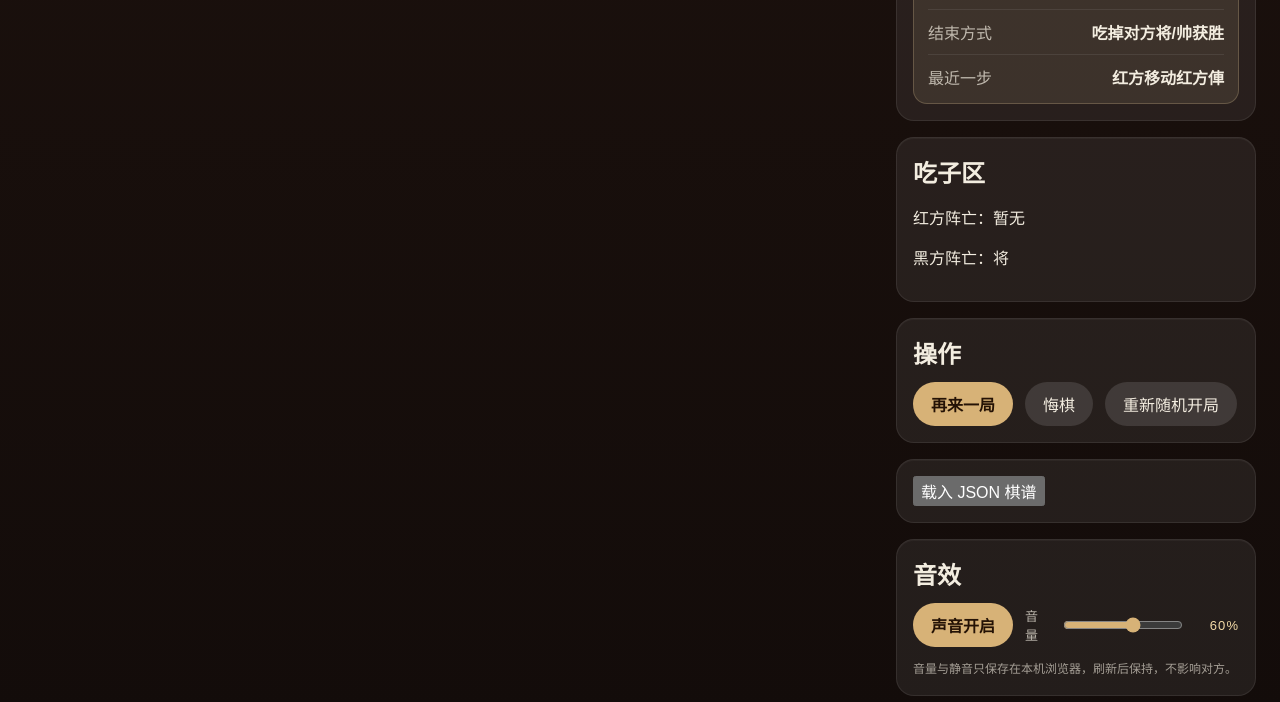
Test: app flow › returns to an in-progress view when undoing from a finished game
(page scrolled)
Expected: the button "再来一局" is shown, [913,382,1013,426]
Click the button "悔棋" at (1059, 404), box [1025,382,1093,426]
(page scrolled)
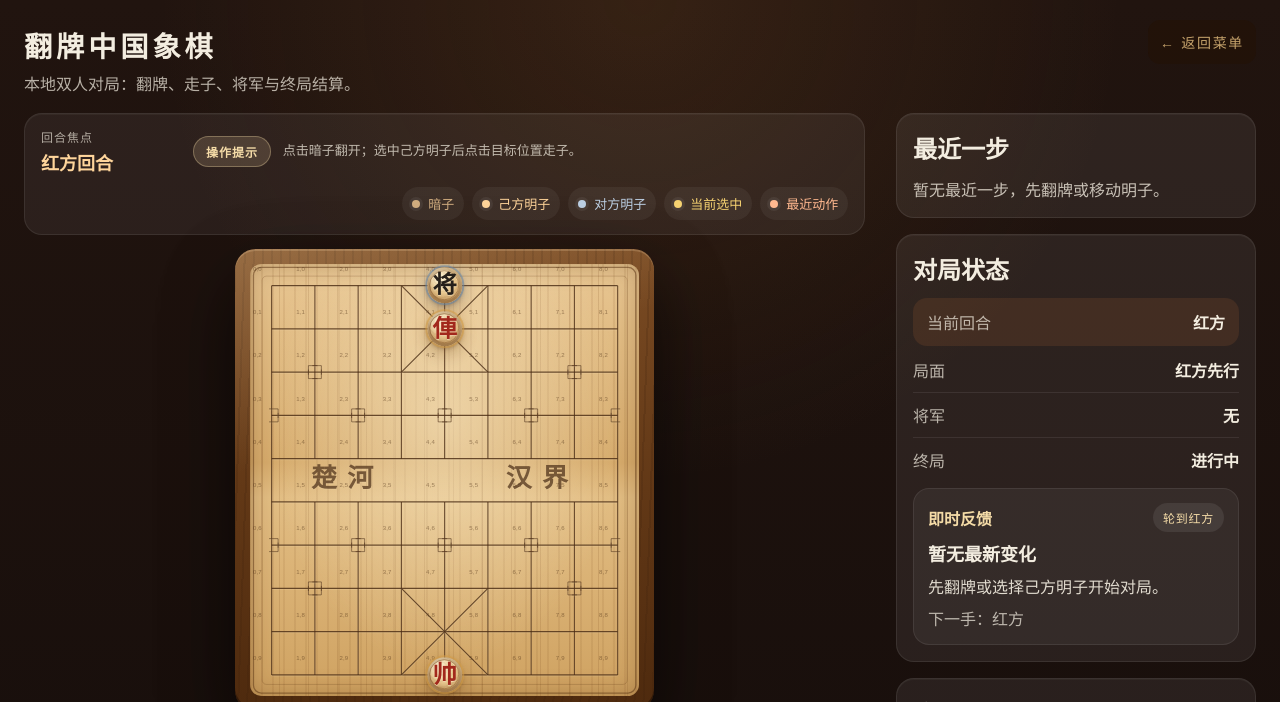
Result: the button "再来一局" is gone
Result: the text "红方" is shown at [1193,310,1225,334]
Result: the button with test id "cell-4-1" shows "俥" at [423,307,466,350]
